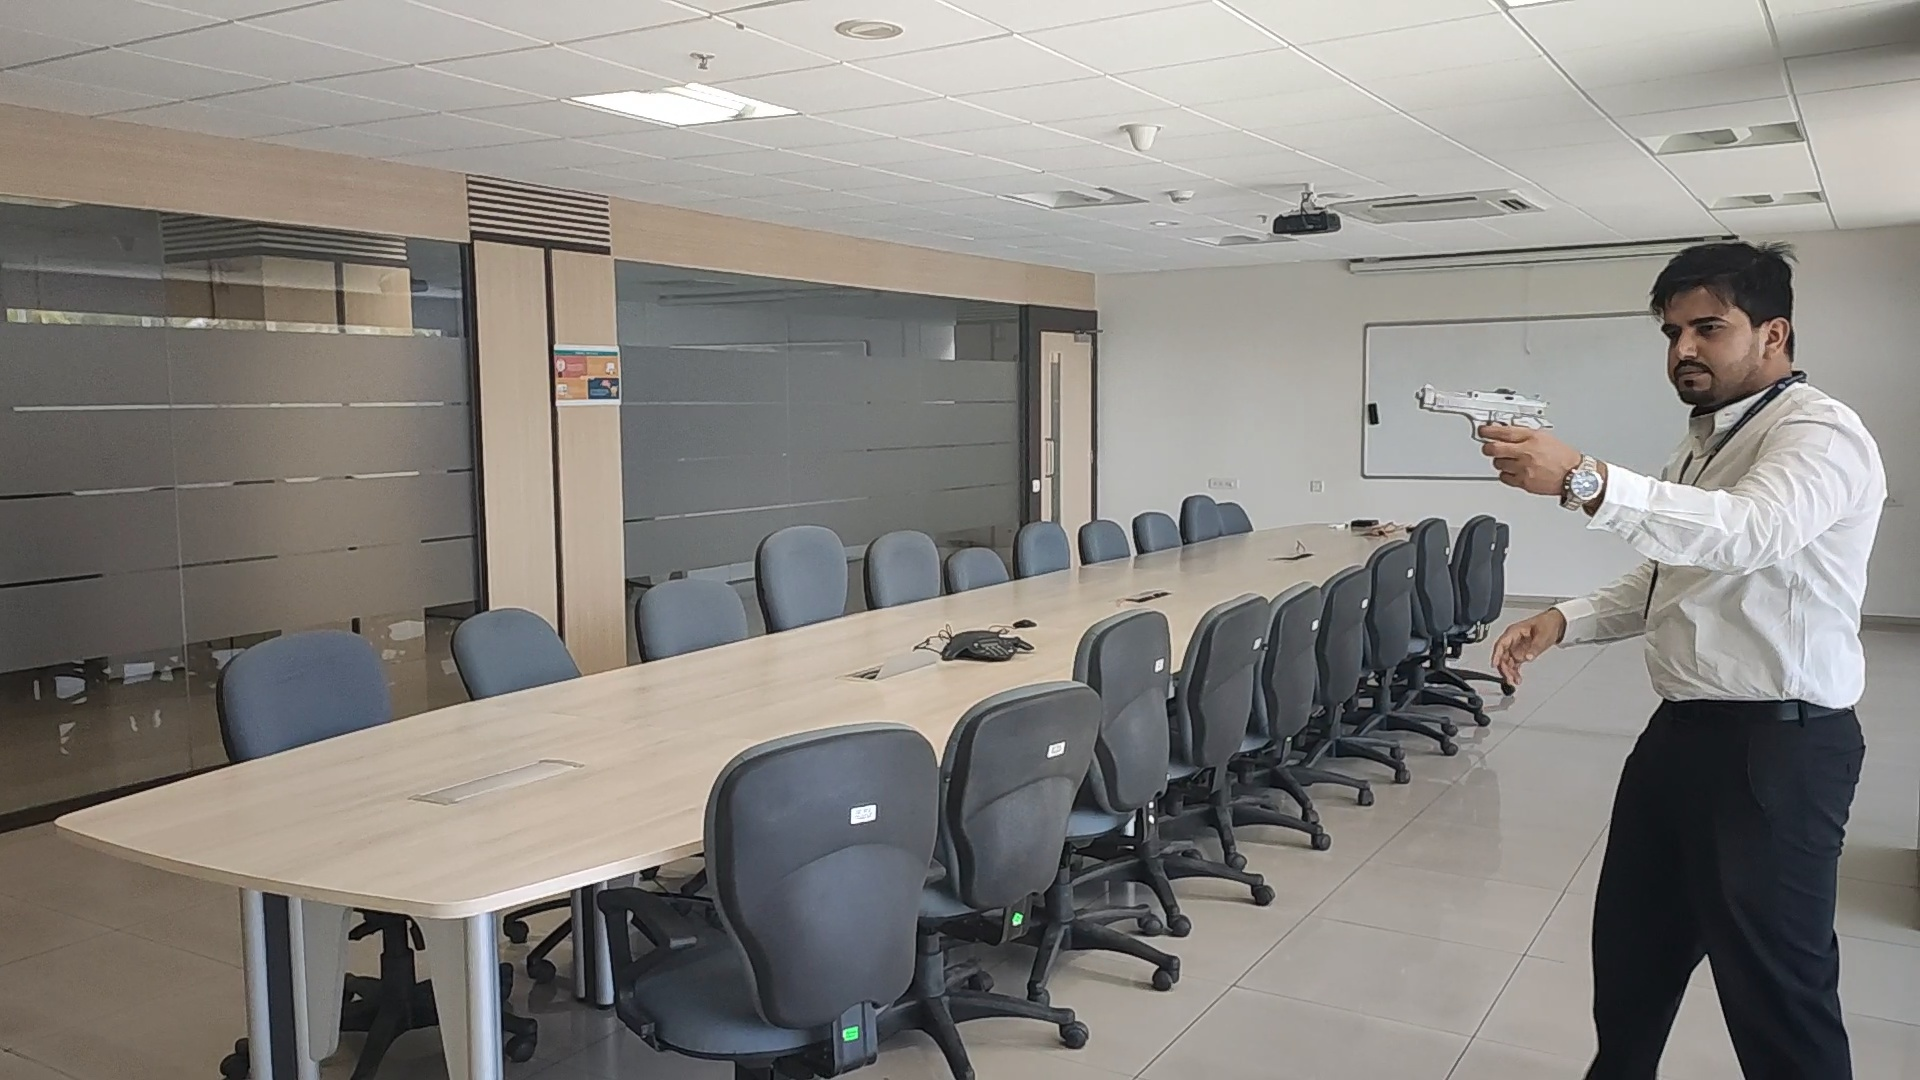gun: (1411, 378, 1553, 426)
